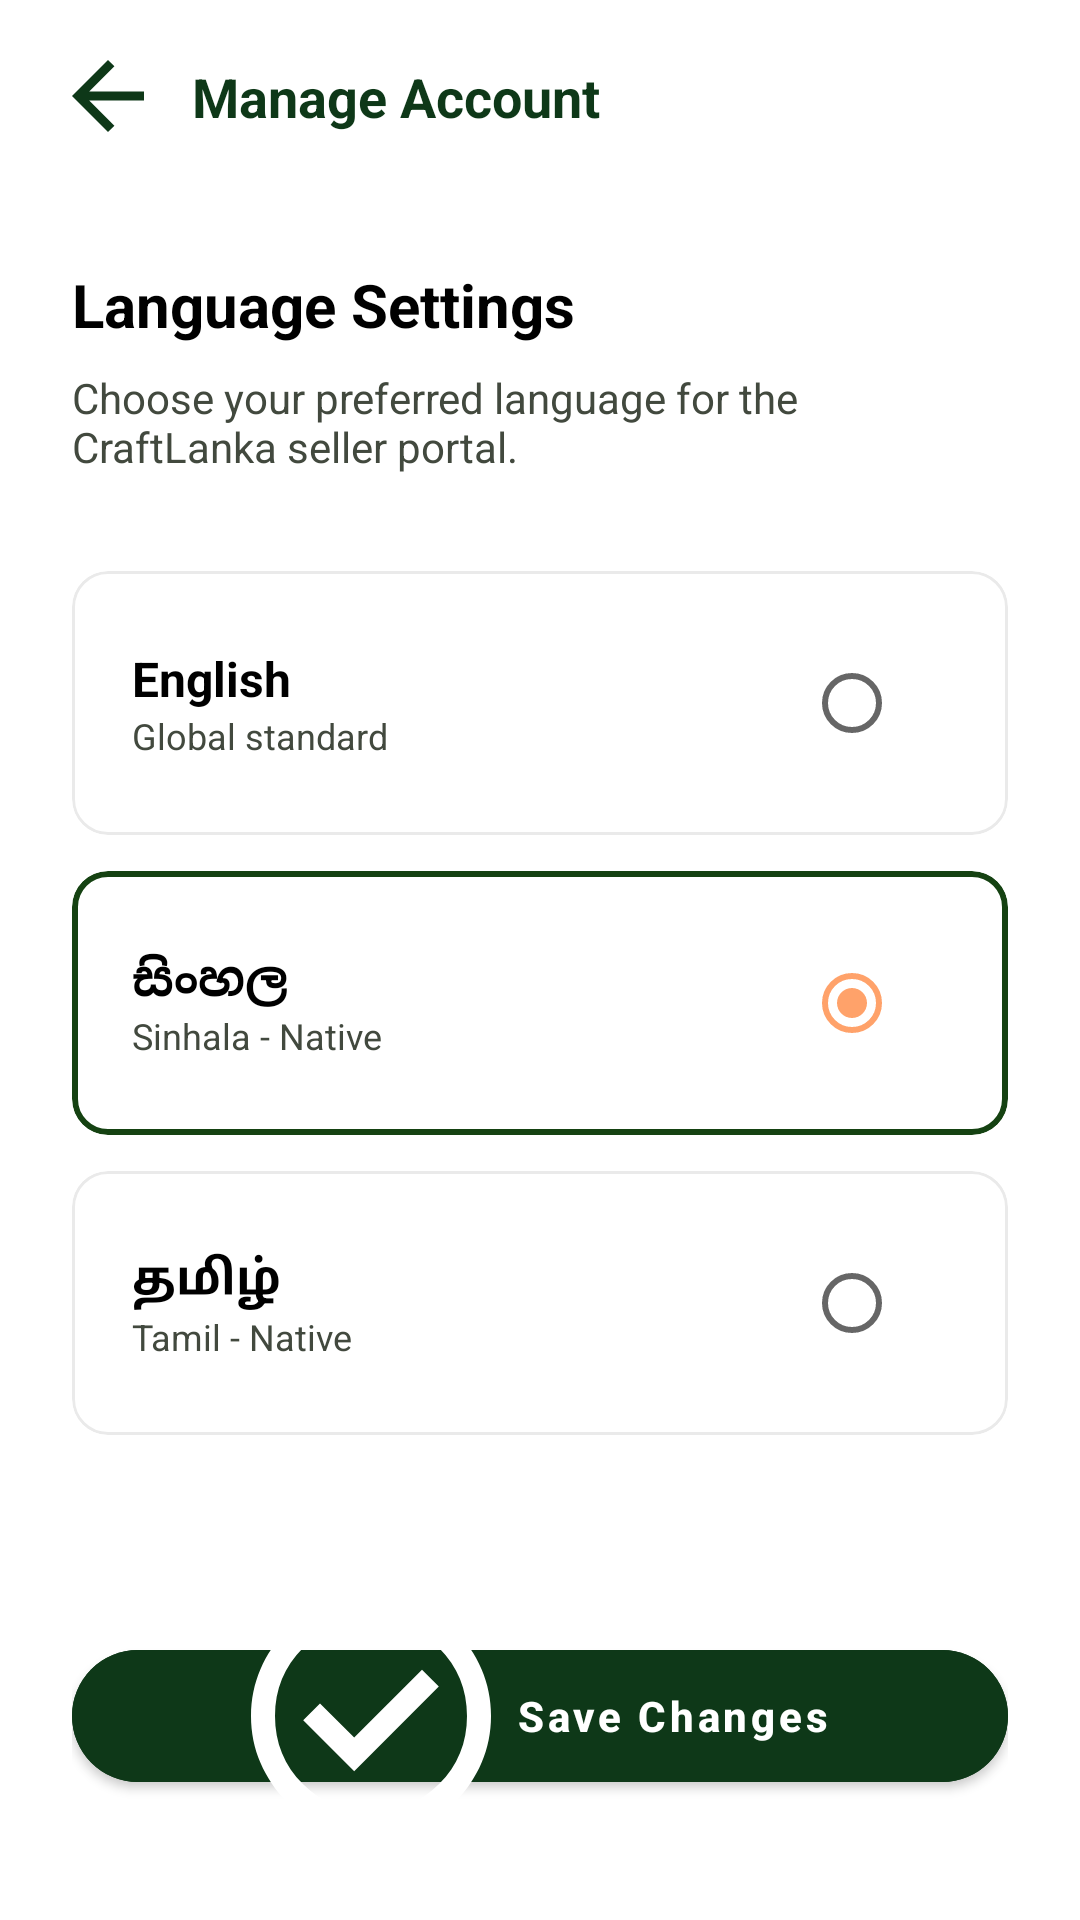

Icons on this 1080*1920 Android screen, each with its box as {"left": x1, "top": y1, "right": x2, "bottom": y2}:
arrow back: {"left": 72, "top": 60, "right": 144, "bottom": 132}
